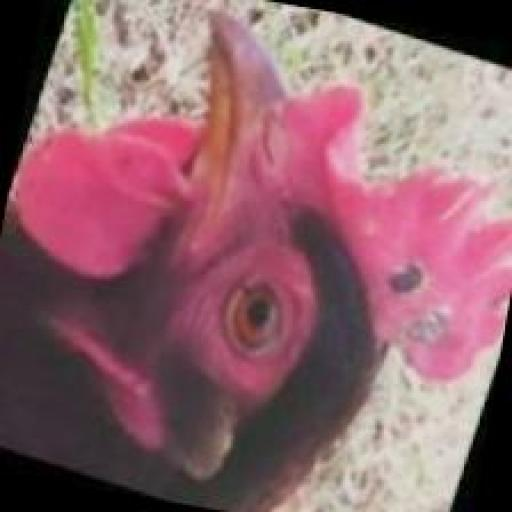disease: (371, 207, 492, 368)
